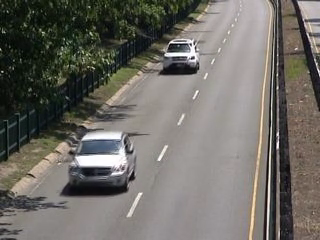car: (64, 126, 140, 195), (160, 36, 204, 77)
